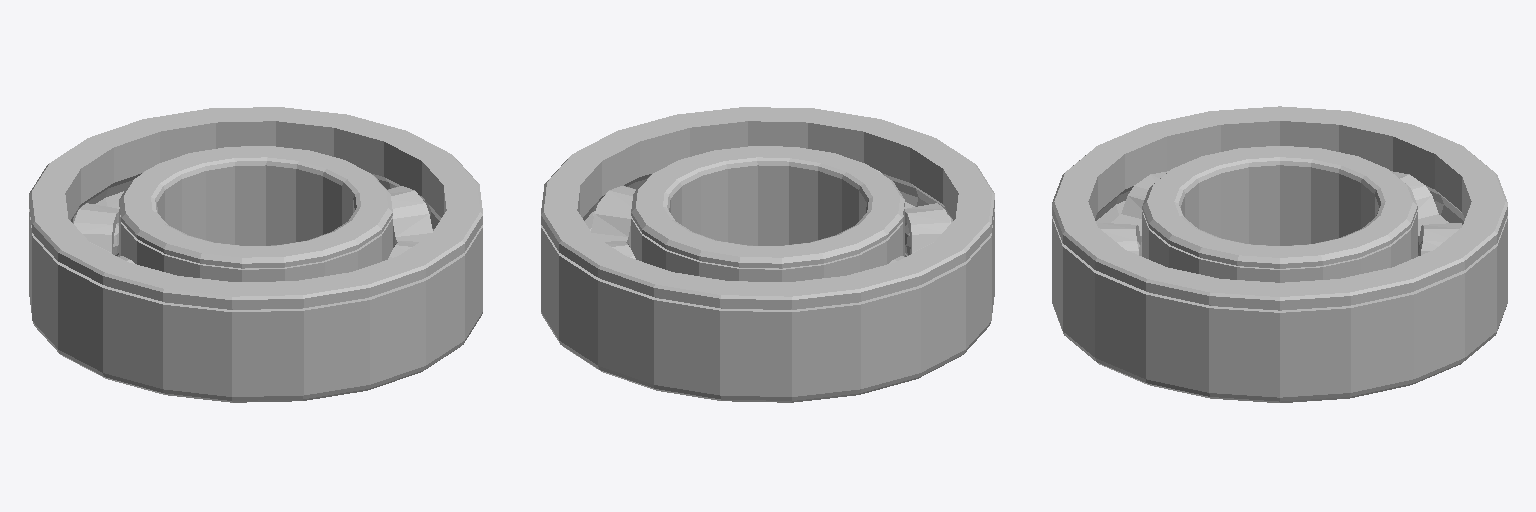
The model's file is Bearing.obj.
3 renders of one model, left to right at view 1: azimuth 30°, elevation 25°; view 2: azimuth 150°, elevation 25°; view 3: azimuth 270°, elevation 25°, orthographic.
Visible parts, largest first — view 1: Bearing; view 2: Bearing; view 3: Bearing.
Boxes of the visible parts, <box> form: Bearing: <box>29,107,482,402</box>; Bearing: <box>541,107,994,402</box>; Bearing: <box>1052,106,1507,402</box>.
Bounding box in the file's own units: 3.15 × 0.825 × 3.15.